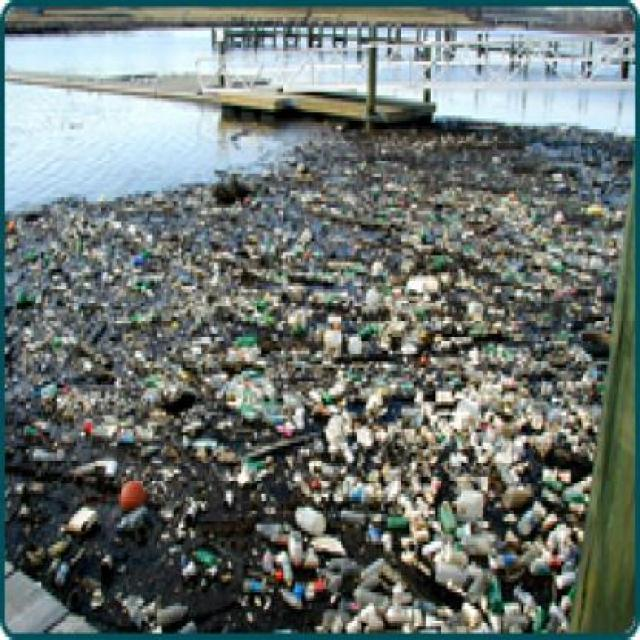garbage: (3, 194, 567, 630), (226, 137, 570, 188), (574, 126, 596, 436), (600, 129, 626, 296)
